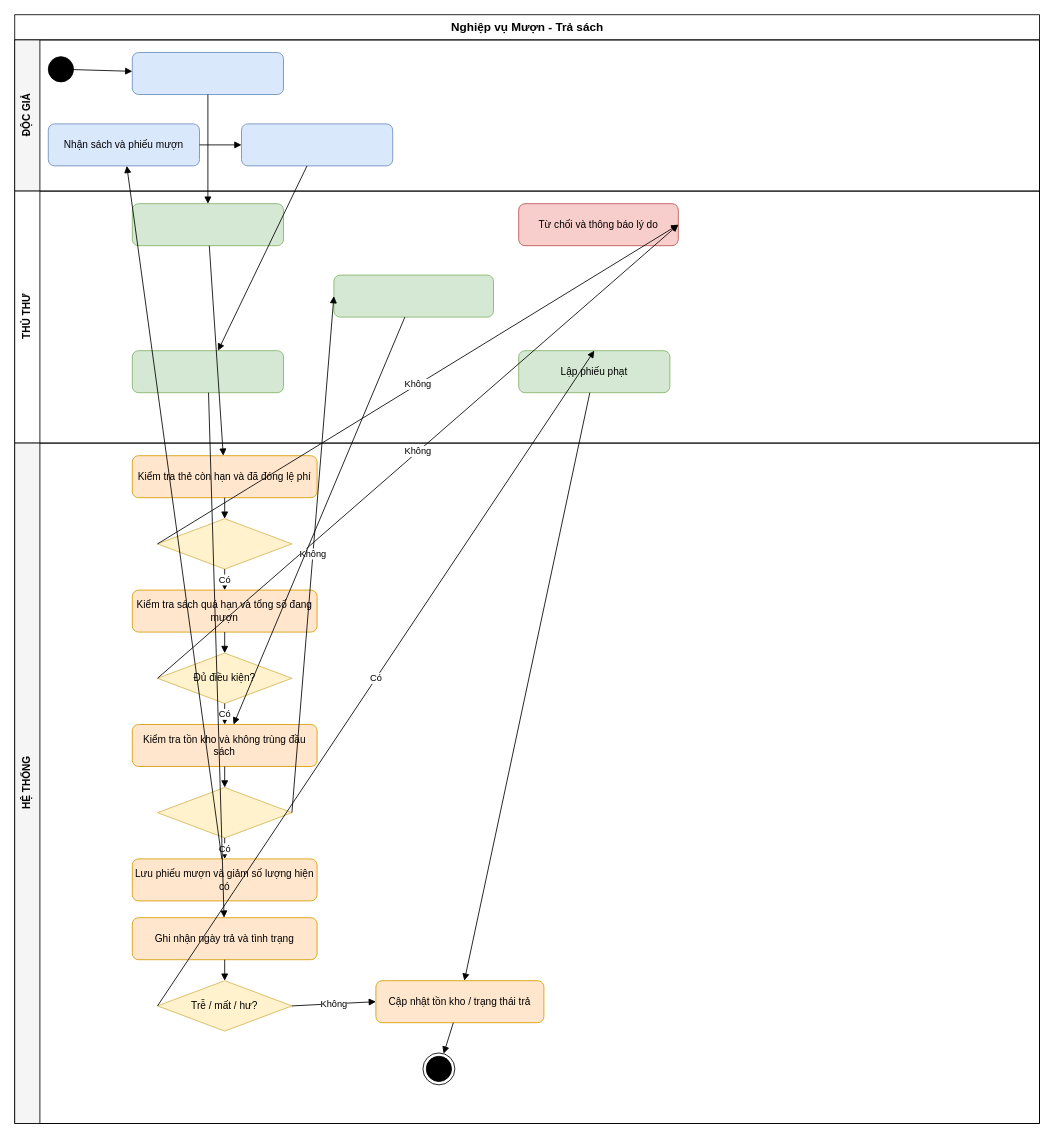
This 1054x1138 diagram has some shape labels left out. The centre of each missing label's shape, as x and y in pixels:
Chọn 1-3 đầu sách khác nhau: point (413, 295)
Kiểm tra tình trạng sách: point (207, 371)
Mang sách đến trả: point (317, 144)
Sách hợp lệ?: point (224, 812)
Thẻ hợp lệ?: point (224, 543)
Tiếp nhận yêu cầu: point (207, 224)
Xuất trình thẻ và thông tin sách: point (207, 73)
